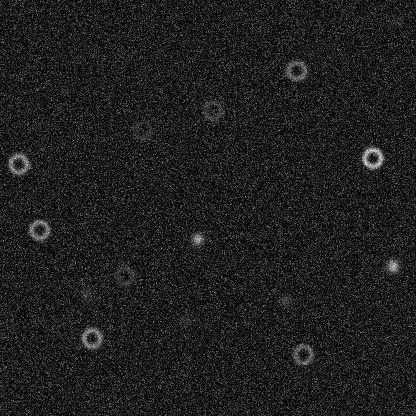Ring: (112, 263, 136, 287), (284, 58, 308, 82), (27, 217, 51, 241), (360, 145, 384, 169), (200, 98, 224, 122), (79, 325, 103, 349), (130, 117, 154, 141), (6, 151, 30, 175), (291, 342, 315, 366)
Spot: (384, 257, 400, 273), (278, 292, 294, 308), (189, 230, 205, 246), (387, 13, 403, 29), (177, 313, 193, 329), (77, 286, 93, 302)
